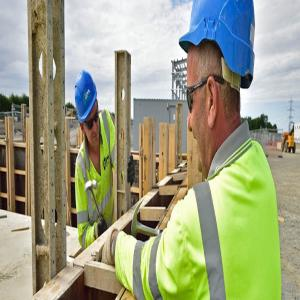blue: (183, 2, 258, 168), (75, 69, 100, 151)
